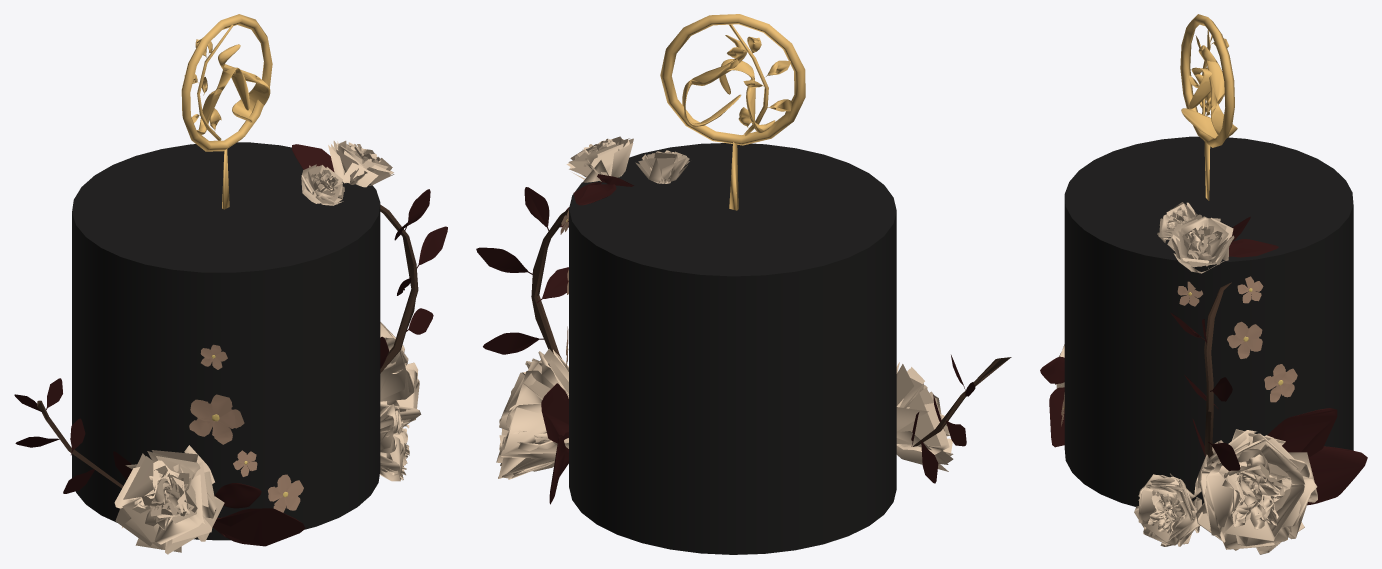
Rendered from 1-tier-black.glb.
3 renders of one model, left to right at view 1: azimuth 30°, elevation 25°; view 2: azimuth 150°, elevation 25°; view 3: azimuth 270°, elevation 25°, orthographic. The views are drawn at different scales.
Parts seen in each view (by area): view 1: Cylinder.019, grid.039, Cylinder.017, Plane.083, Plane.074, Plane.075, grid.038, grid.041, grid.033, Sphere.050, grid.035, Sphere.054 (+2 smaller); view 2: Cylinder.019, Cylinder.017, grid.038, Plane.083, grid.039, grid.041, Plane.075, Plane.079, grid.035, Plane.086; view 3: Cylinder.019, grid.038, Cylinder.017, grid.033, grid.041, Plane.083, Plane.080, Plane.079, Sphere.057, Sphere.059, Plane.074, grid.035 (+4 smaller).
Boxes of the visible parts, x1=… form: Cylinder.019: x1=72, y1=142, x2=380, y2=540; grid.039: x1=114, y1=445, x2=224, y2=554; Cylinder.017: x1=181, y1=14, x2=272, y2=209; Plane.083: x1=380, y1=189, x2=447, y2=373; Plane.074: x1=213, y1=508, x2=305, y2=546; Plane.075: x1=14, y1=378, x2=132, y2=493; grid.038: x1=380, y1=322, x2=421, y2=428; grid.041: x1=328, y1=140, x2=394, y2=187; grid.033: x1=380, y1=404, x2=409, y2=481; Sphere.050: x1=189, y1=394, x2=244, y2=444; grid.035: x1=301, y1=164, x2=344, y2=205; Sphere.054: x1=268, y1=474, x2=303, y2=512; Cylinder.019: x1=569, y1=143, x2=896, y2=554; Cylinder.017: x1=660, y1=14, x2=805, y2=210; grid.038: x1=496, y1=348, x2=568, y2=479; Plane.083: x1=476, y1=187, x2=569, y2=358; grid.039: x1=896, y1=362, x2=953, y2=471; grid.041: x1=566, y1=136, x2=633, y2=182; Plane.075: x1=911, y1=355, x2=1011, y2=483; Plane.079: x1=541, y1=383, x2=568, y2=443; grid.035: x1=635, y1=150, x2=689, y2=183; Plane.086: x1=573, y1=182, x2=616, y2=205; Cylinder.019: x1=1064, y1=136, x2=1353, y2=506; grid.038: x1=1194, y1=429, x2=1317, y2=554; Cylinder.017: x1=1180, y1=14, x2=1237, y2=200; grid.033: x1=1134, y1=473, x2=1201, y2=546; grid.041: x1=1167, y1=214, x2=1234, y2=273; Plane.083: x1=1170, y1=282, x2=1240, y2=470; Plane.080: x1=1307, y1=446, x2=1367, y2=505; Plane.079: x1=1267, y1=408, x2=1337, y2=457; Sphere.057: x1=1227, y1=321, x2=1262, y2=358; Sphere.059: x1=1264, y1=364, x2=1297, y2=402; Plane.074: x1=1049, y1=387, x2=1064, y2=447; grid.035: x1=1157, y1=202, x2=1199, y2=242.
Bounding box in the file's own units: 4.49 × 4.46 × 2.9.
